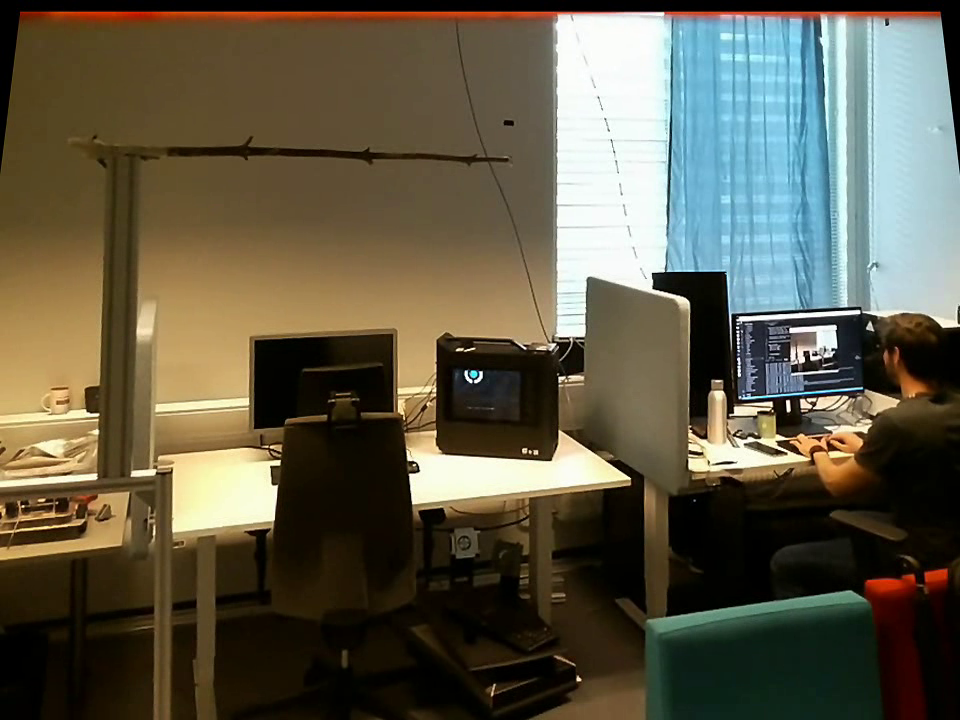aluminum_frame: (85, 159, 149, 477), (147, 467, 177, 718), (1, 463, 155, 508)
branch: (173, 131, 497, 172)
